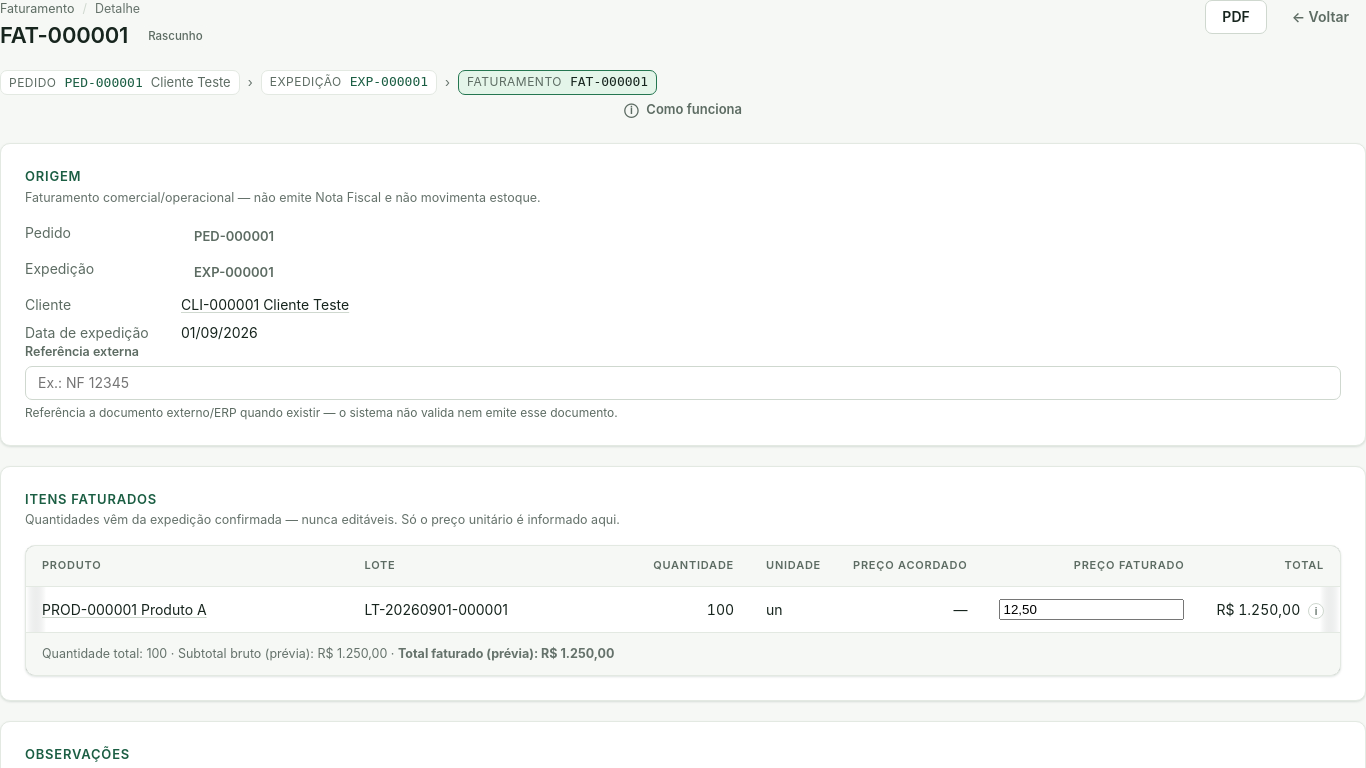
Scenario: Faturamento — Salvar rascunho responde › clique duplo grava uma vez só
Expected: the heading "FAT-000001" is shown, [0,22,128,50]
Replace the text in the field named "Preço faturado de PROD-000001" with "13,25": (1092, 610) [1000,599,1184,620]
(page scrolled)
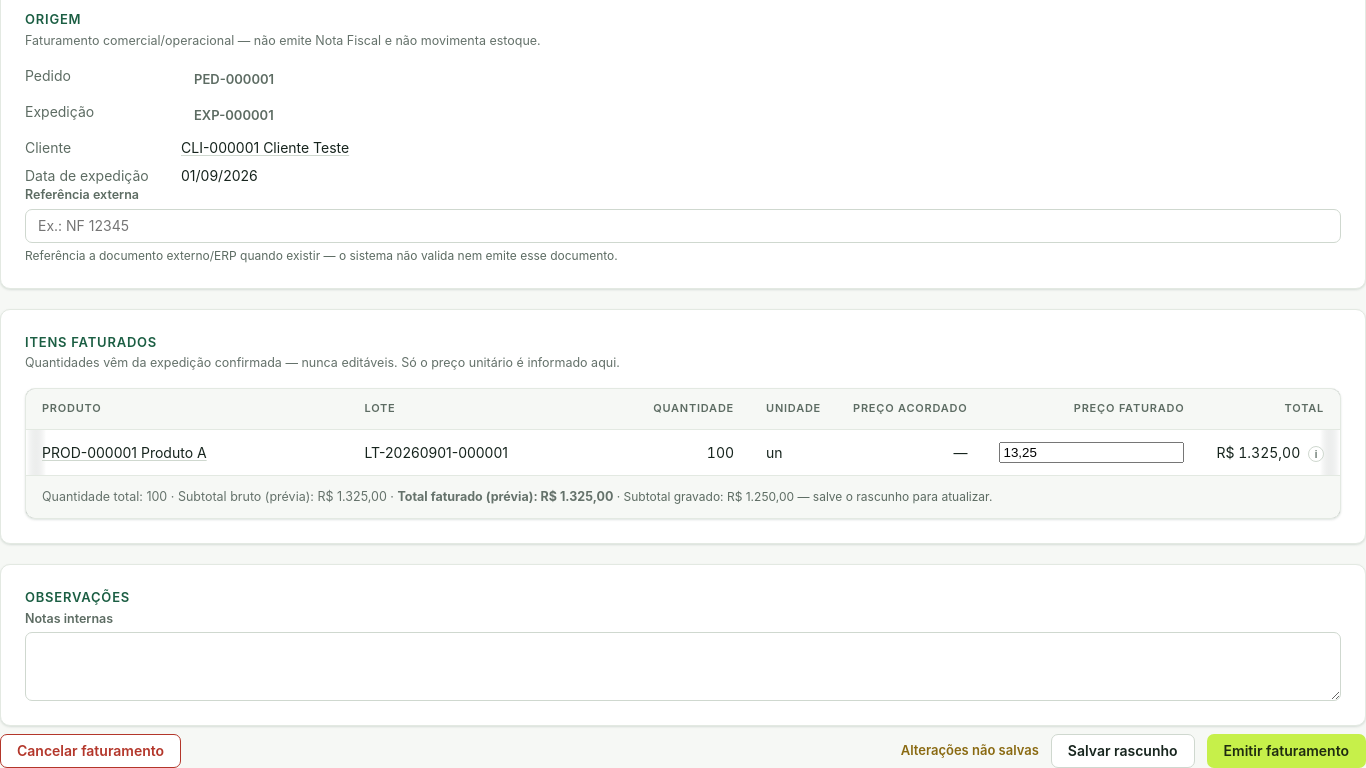
Click the button "Salvar rascunho": (1123, 751) [1051,734,1195,767]
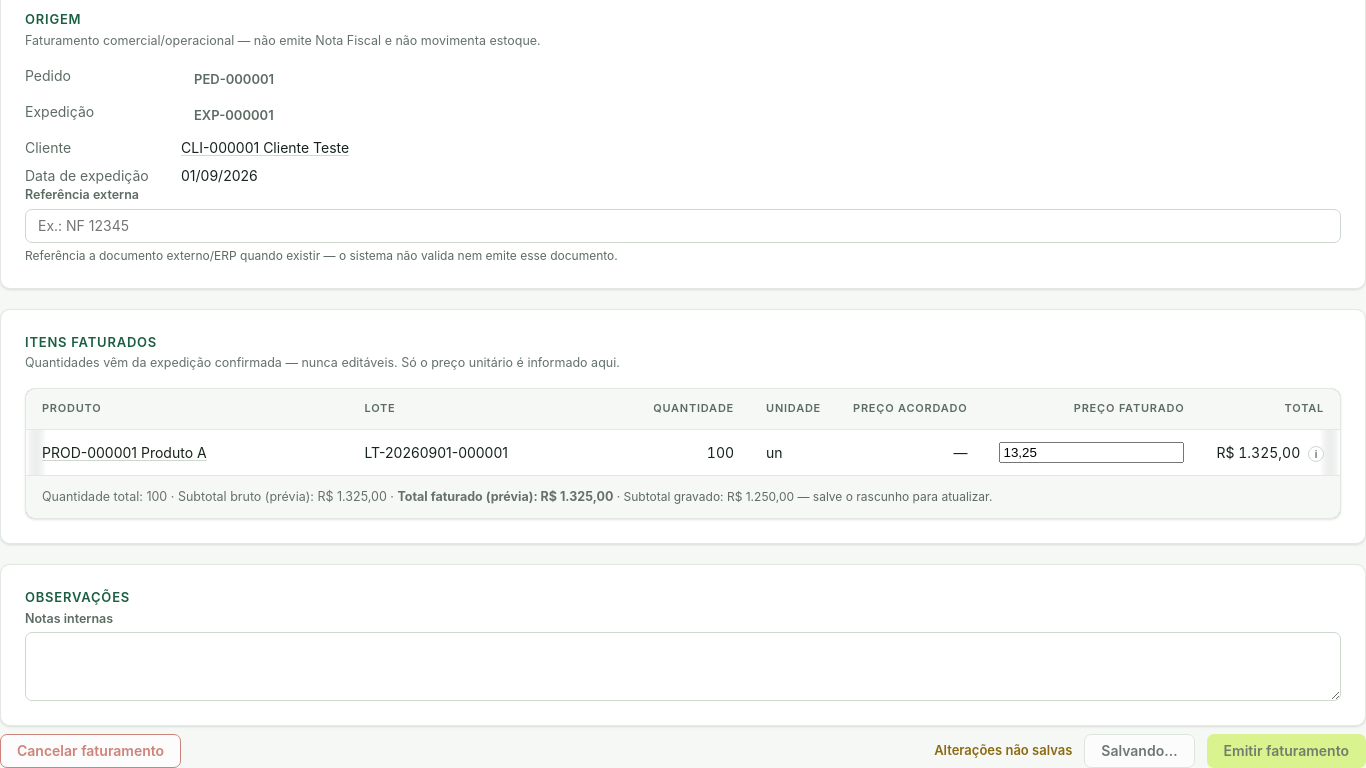
Click the button "Salvando…": (1139, 751) [1084,734,1195,767]
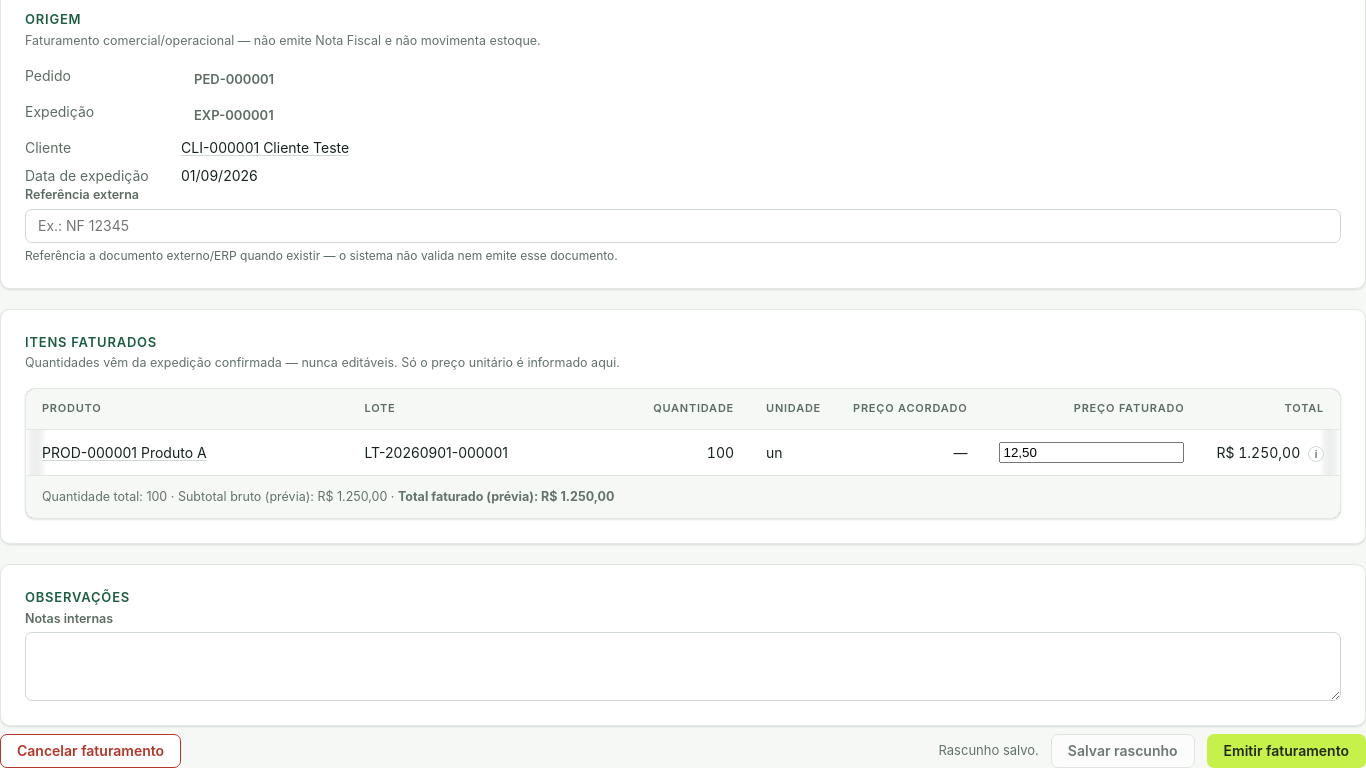
Result: the text "Rascunho salvo." is shown at [938,741,1039,760]
